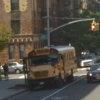Bus: (22, 45, 81, 88)
